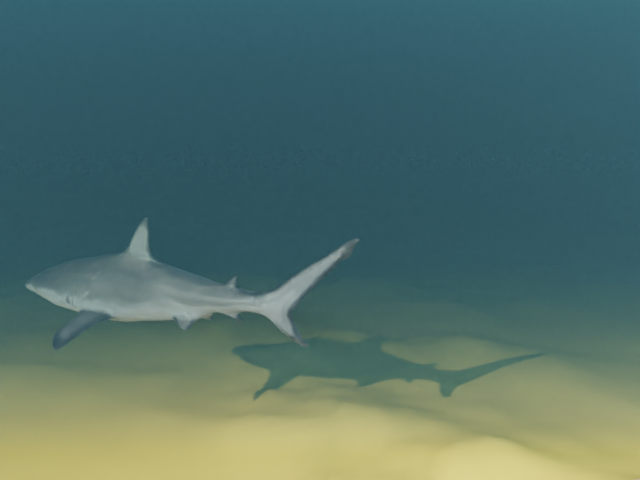Carribean Shark.001: (25, 217, 359, 350)
